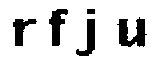f: (45, 6, 74, 51)
j: (72, 5, 102, 60)
r: (12, 14, 43, 51)
u: (113, 12, 149, 50)
